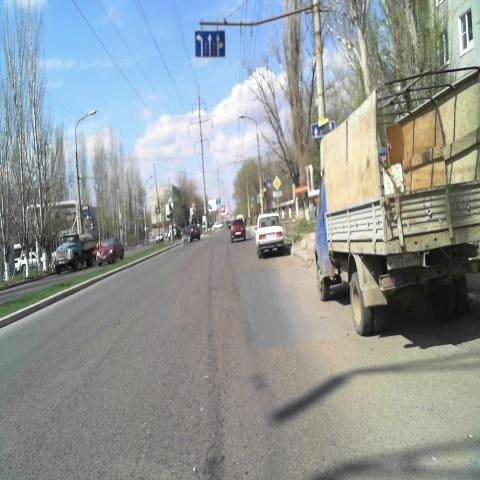6_15_1: (312, 119, 336, 137)
